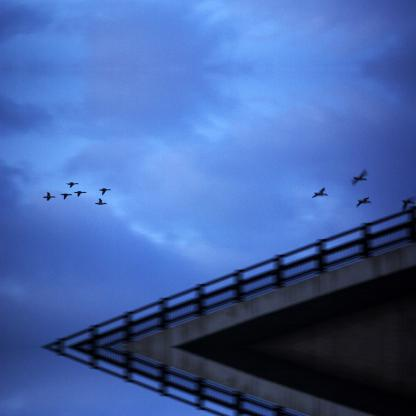Bird: (356, 166, 368, 184), (400, 195, 412, 207), (97, 186, 111, 196), (42, 190, 54, 200), (74, 186, 86, 196), (312, 186, 324, 196), (356, 198, 372, 204), (96, 196, 106, 204), (61, 190, 71, 197), (67, 180, 77, 186)
